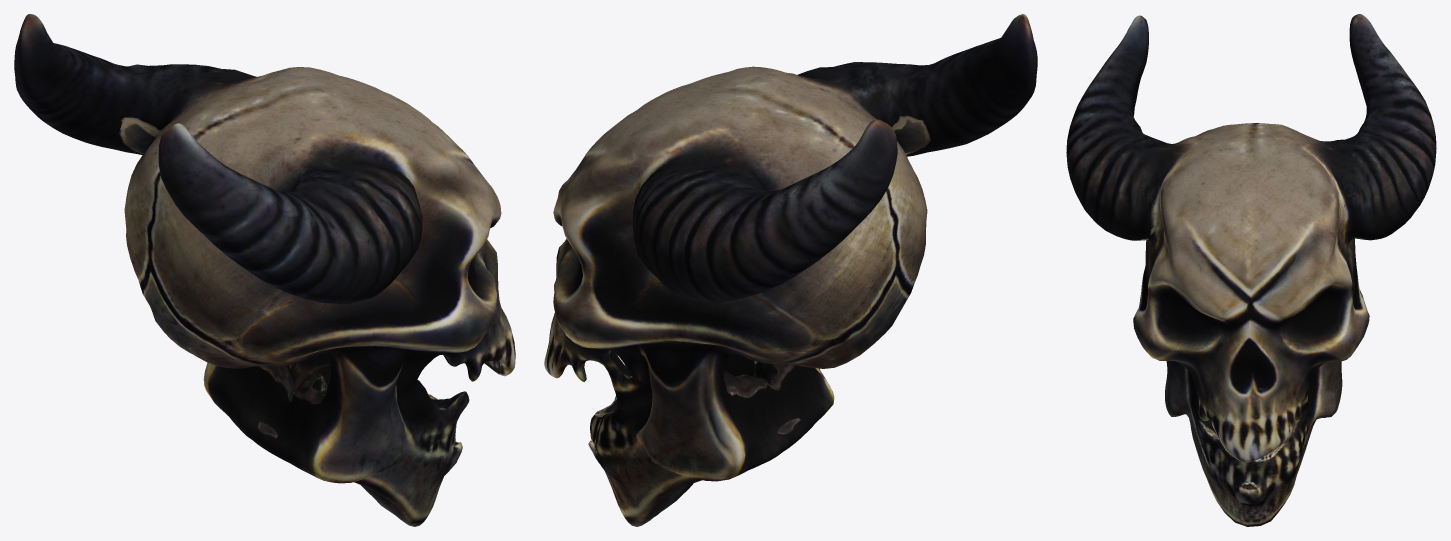
Rendered from Skull 2.fbx.
The picture shows the model from 3 angles, left to right: view 1: azimuth 30°, elevation 25°; view 2: azimuth 150°, elevation 25°; view 3: azimuth 270°, elevation 25°; orthographic projection. The views are drawn at different scales.
Parts seen in each view (by area): view 1: mesh; view 2: mesh; view 3: mesh.
Boxes of the visible parts, box(x1,y1,x2,y2) form: mesh: box(14, 14, 515, 526); mesh: box(544, 14, 1037, 526); mesh: box(1066, 14, 1436, 526).
Size of the model in its own units: 81.85 by 99.5 by 83.89.
